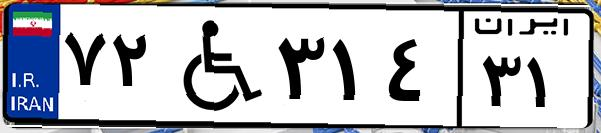1: (330, 28, 385, 110), (525, 38, 570, 115)
2: (110, 28, 158, 98)
3: (270, 28, 330, 110), (475, 38, 525, 113)
4: (385, 28, 445, 110)
7: (57, 26, 110, 100)
ژ (معلولین و جانبازان): (158, 12, 270, 120)
